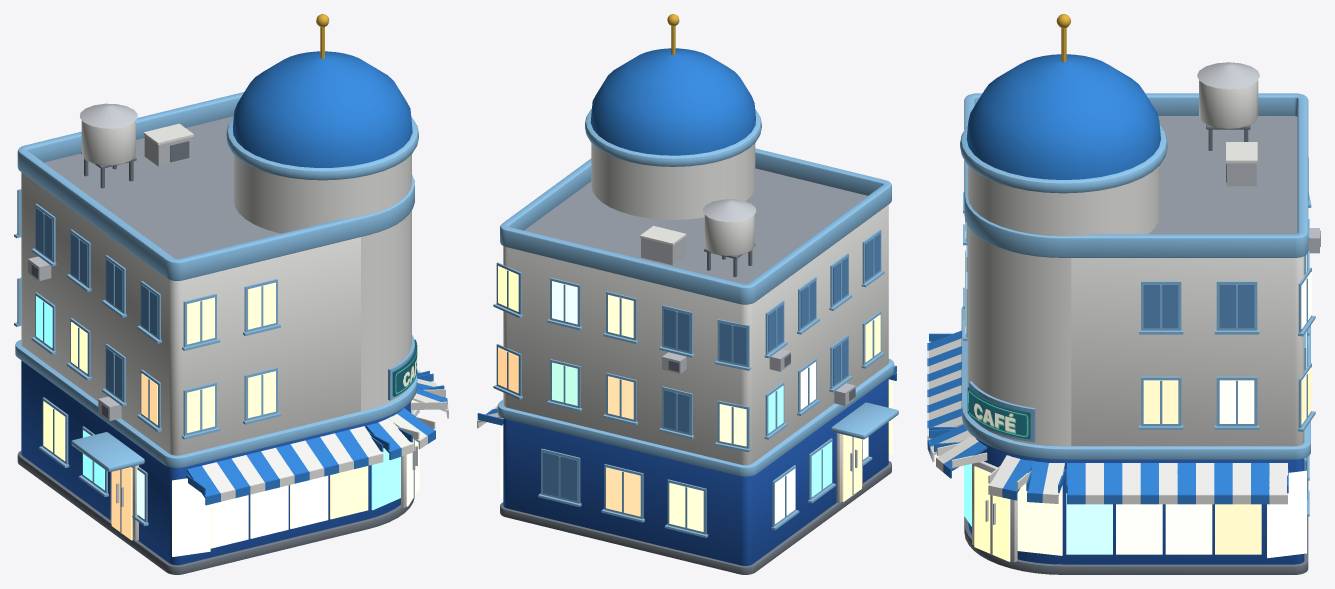
File: loja_esquina_cafe.glb
3 views of the same model, side by side, from view 1: azimuth 30°, elevation 25°; view 2: azimuth 150°, elevation 25°; view 3: azimuth 270°, elevation 25° (orthographic). The views are drawn at different scales.
Parts seen in each view (by area): view 1: loja_esquina_cafe; view 2: loja_esquina_cafe; view 3: loja_esquina_cafe.
Part boxes in pixels (box(x1,y1,x2,y2)): loja_esquina_cafe: box(14, 14, 448, 574); loja_esquina_cafe: box(477, 14, 898, 574); loja_esquina_cafe: box(927, 14, 1320, 574).
Bounding box in the file's own units: 12.85 × 17.37 × 11.94.
Materials: 8 (2 with a texture image).
